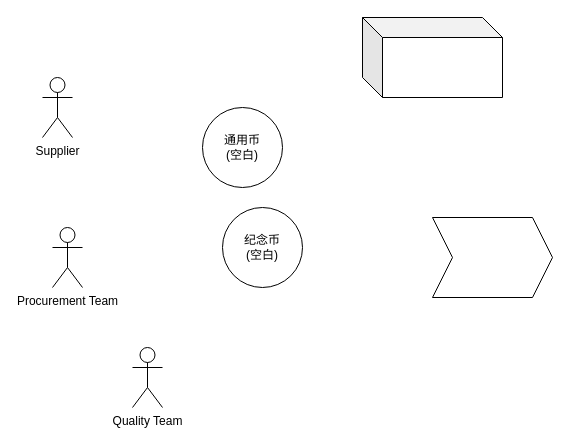
The diagram is 570 pixels wide and 446 high, and some of its shapes have lost their labels. Each missing label, with the box of its shape:
Consignment: (432, 216, 552, 298)
Mint [Coin Manufactory]: (362, 16, 502, 98)
